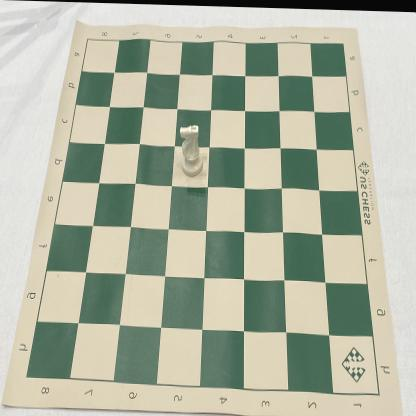white-knight: (180, 123, 204, 177)
